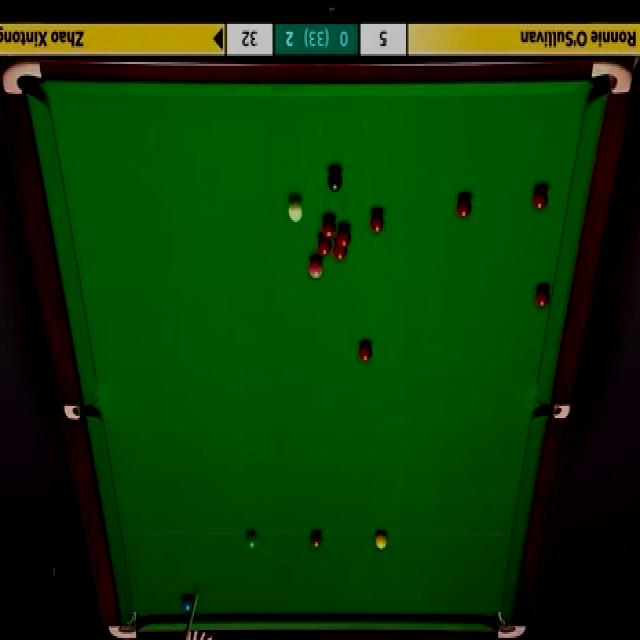pocket: (3, 57, 45, 100), (590, 61, 630, 95), (497, 608, 529, 640), (108, 611, 140, 640), (535, 403, 570, 423), (63, 403, 101, 420)
